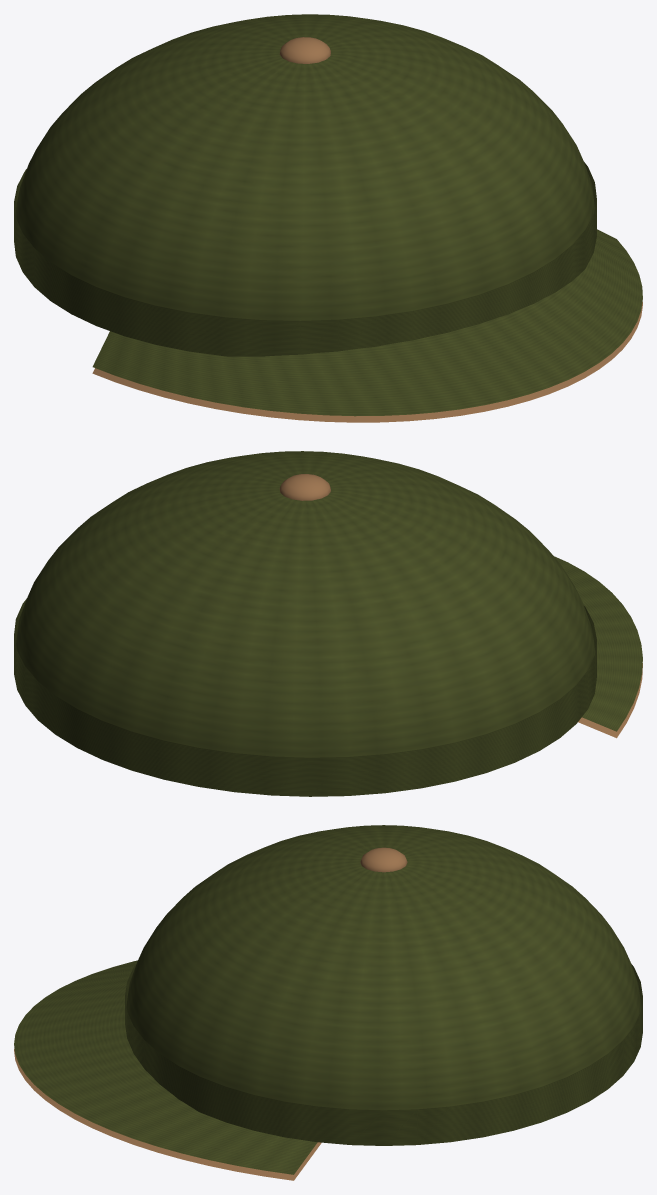
The model's file is cap.glb.
3 renders of one model, top to bottom at view 1: azimuth 30°, elevation 25°; view 2: azimuth 150°, elevation 25°; view 3: azimuth 270°, elevation 25°, orthographic. The views are drawn at different scales.
Visible parts, largest first — view 1: Тулья, Козырёк, Околыш, Козырёк.001, Пуговица; view 2: Тулья, Околыш, Козырёк, Пуговица; view 3: Тулья, Козырёк, Околыш, Козырёк.001, Пуговица.
Boxes of the visible parts, <box> form: Тулья: <box>15,14,594,320</box>; Козырёк: <box>92,229,642,416</box>; Околыш: <box>14,162,596,356</box>; Козырёк.001: <box>92,302,642,422</box>; Пуговица: <box>279,37,330,63</box>; Тулья: <box>16,451,595,757</box>; Околыш: <box>14,598,596,796</box>; Козырёк: <box>554,556,642,731</box>; Пуговица: <box>279,474,330,500</box>; Тулья: <box>126,825,641,1110</box>; Козырёк: <box>14,960,317,1174</box>; Околыш: <box>125,963,642,1145</box>; Козырёк.001: <box>14,1048,321,1180</box>; Пуговица: <box>360,847,407,872</box>.
Size of the model in its own units: 0.5044 by 0.2136 by 0.573.
Materials: 2 (1 with a texture image).
